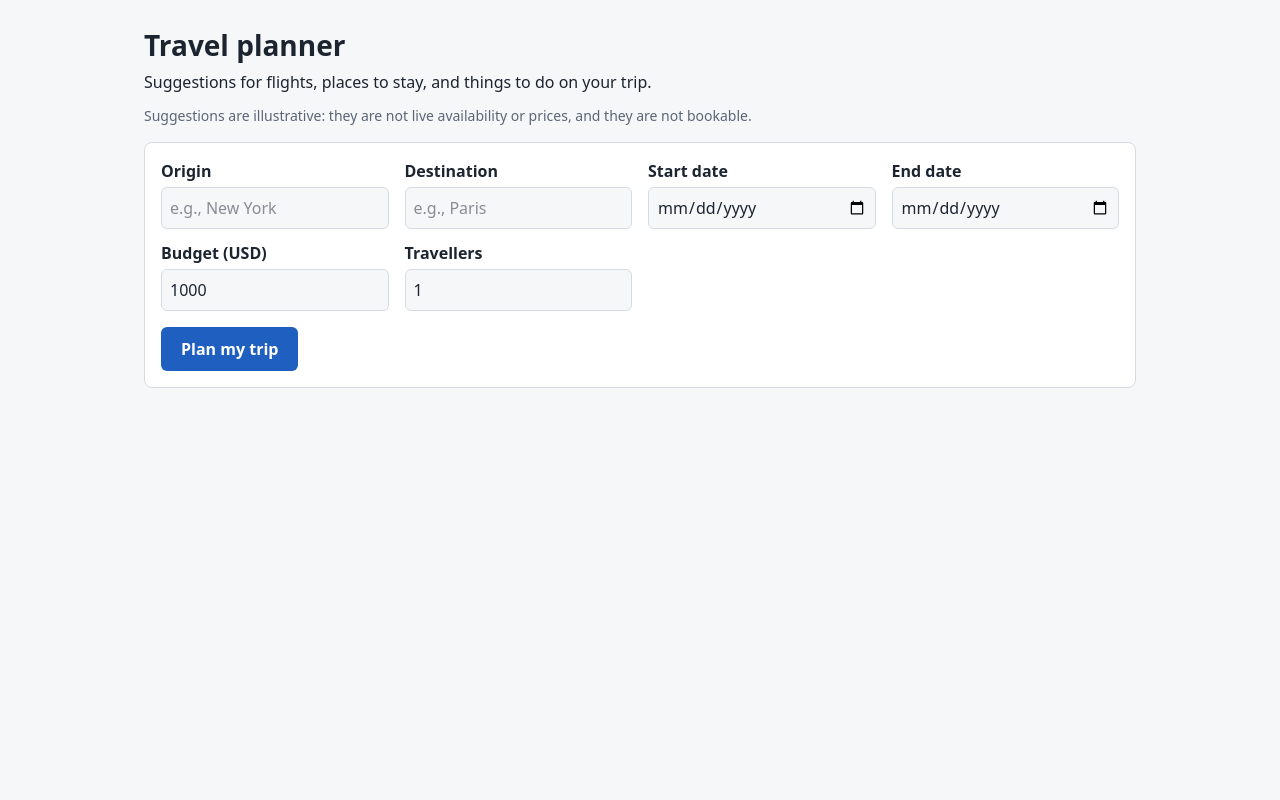
Scenario: TripPlanner › puts the progress indicator at the top of the results area
Type "Manila" into the field labelled "Origin".
click(275, 208); type("Manila")  # box x1=161 y1=187 x2=388 y2=229
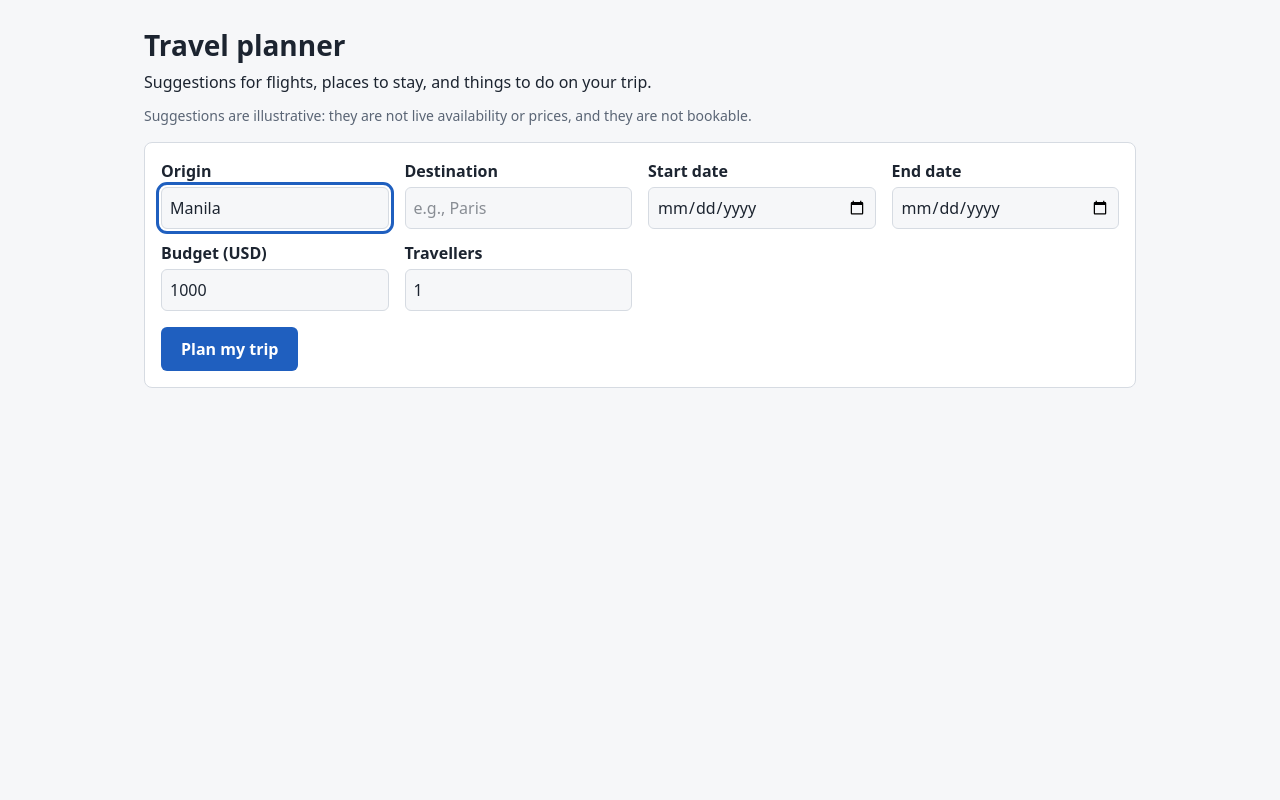
Type "Tokyo" into the field labelled "Destination".
click(518, 208); type("Tokyo")  # box x1=404 y1=187 x2=632 y2=229
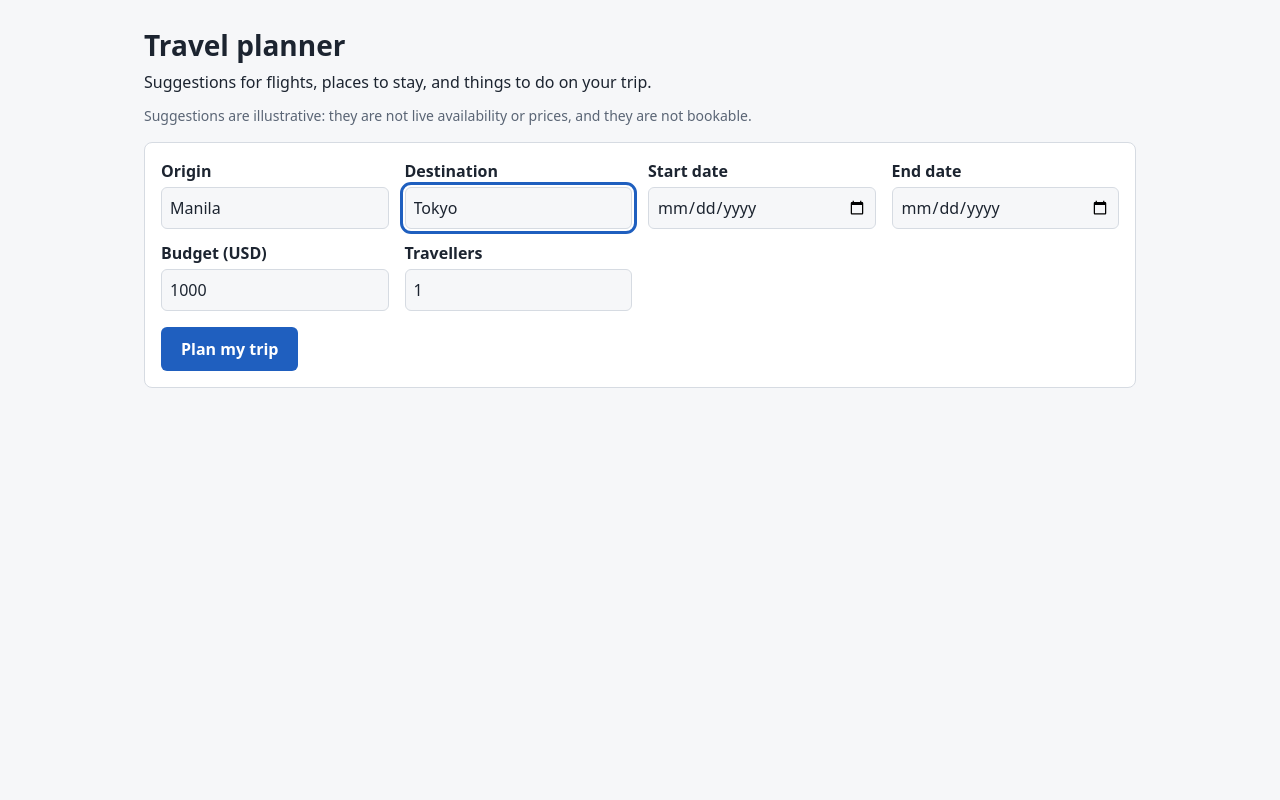
Type "2026-12-01" into the date field labelled "Start date".
click(762, 208); type("2026-12-01")  # box x1=648 y1=187 x2=876 y2=229
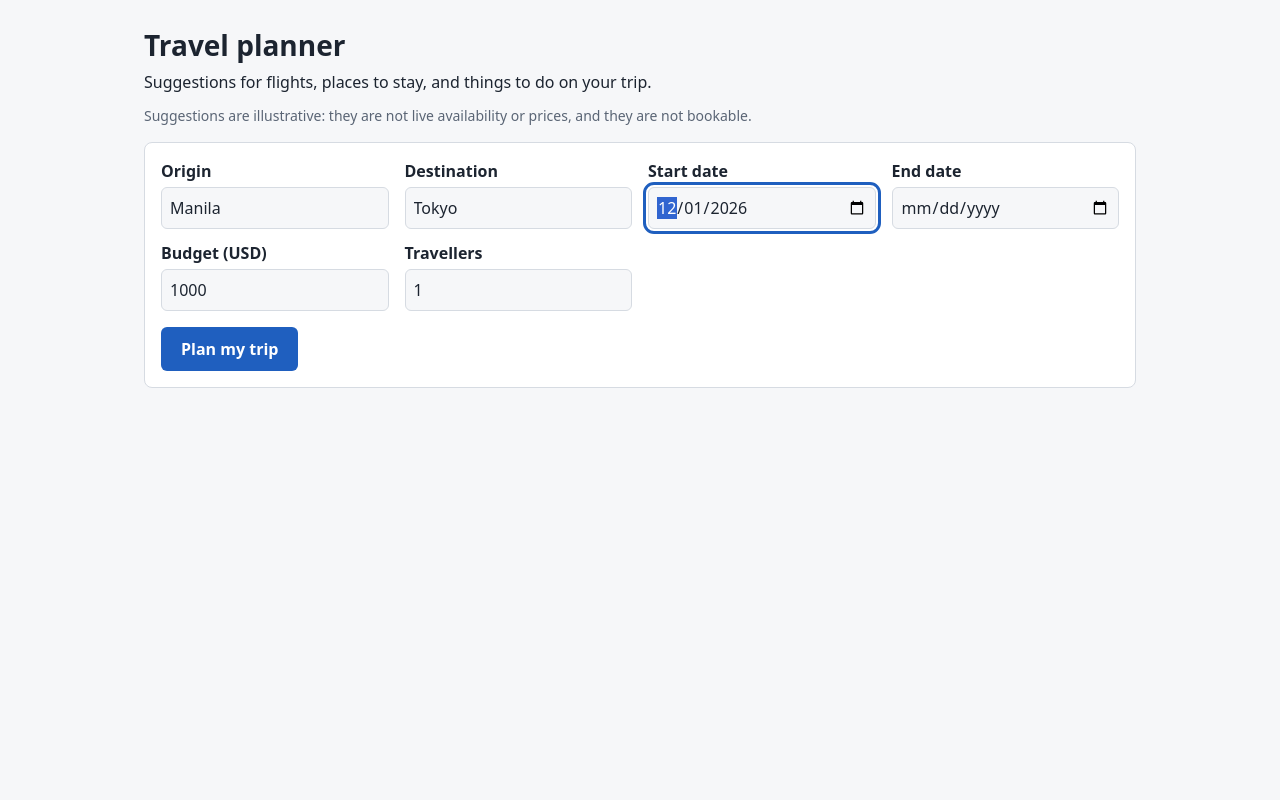
Type "2026-12-06" into the date field labelled "End date".
click(1005, 208); type("2026-12-06")  # box x1=892 y1=187 x2=1119 y2=229
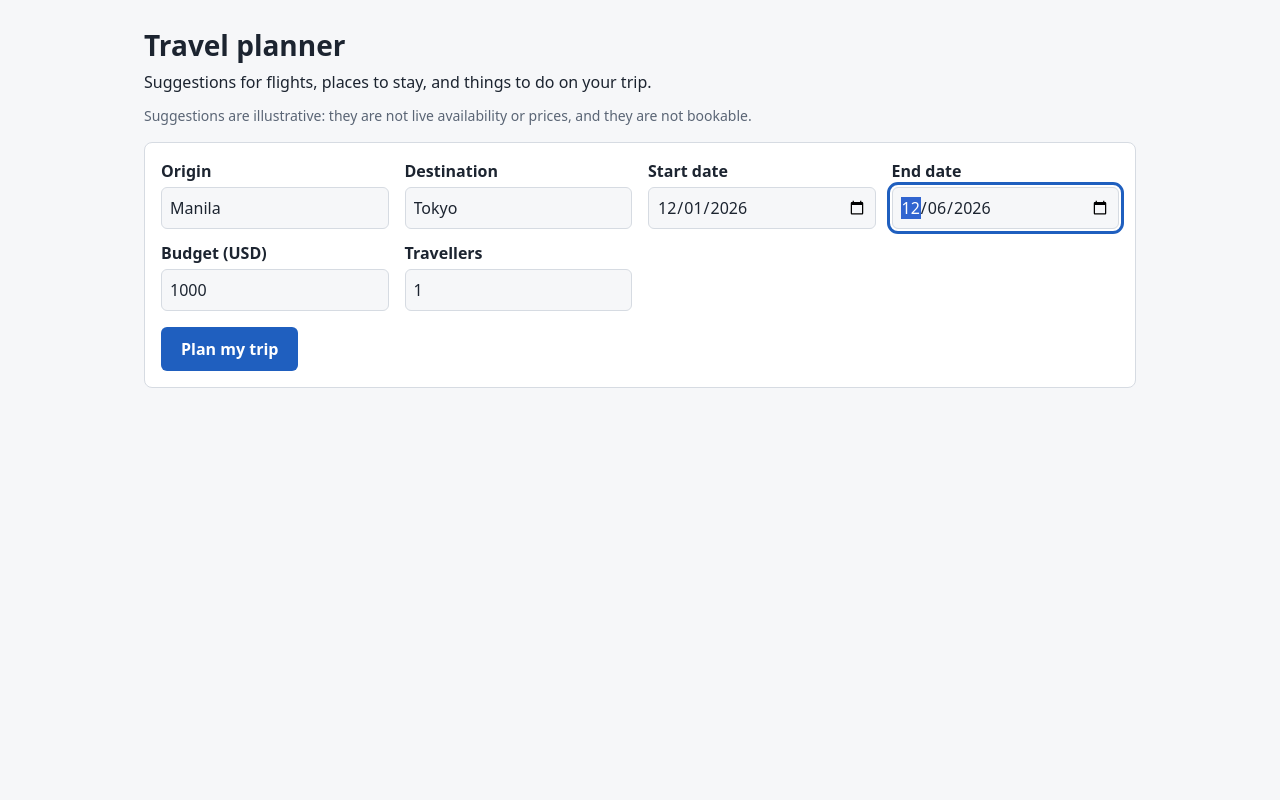
Click the button "Plan my trip".
click(230, 349)  # box x1=161 y1=327 x2=298 y2=371
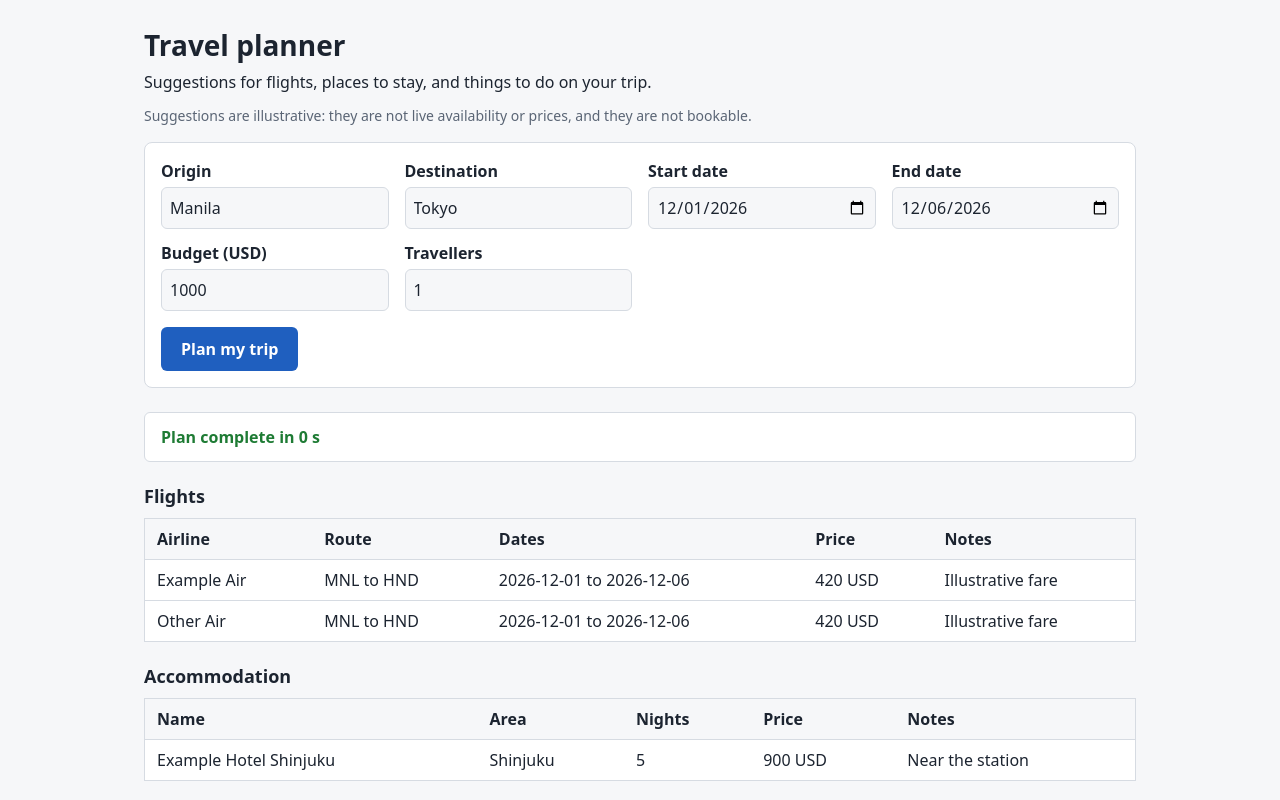
Check: the table "Flights" is shown, box x1=144 y1=482 x2=1136 y2=642
